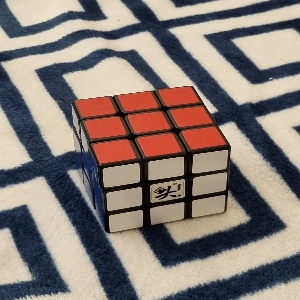cube: (73, 86, 230, 233)
